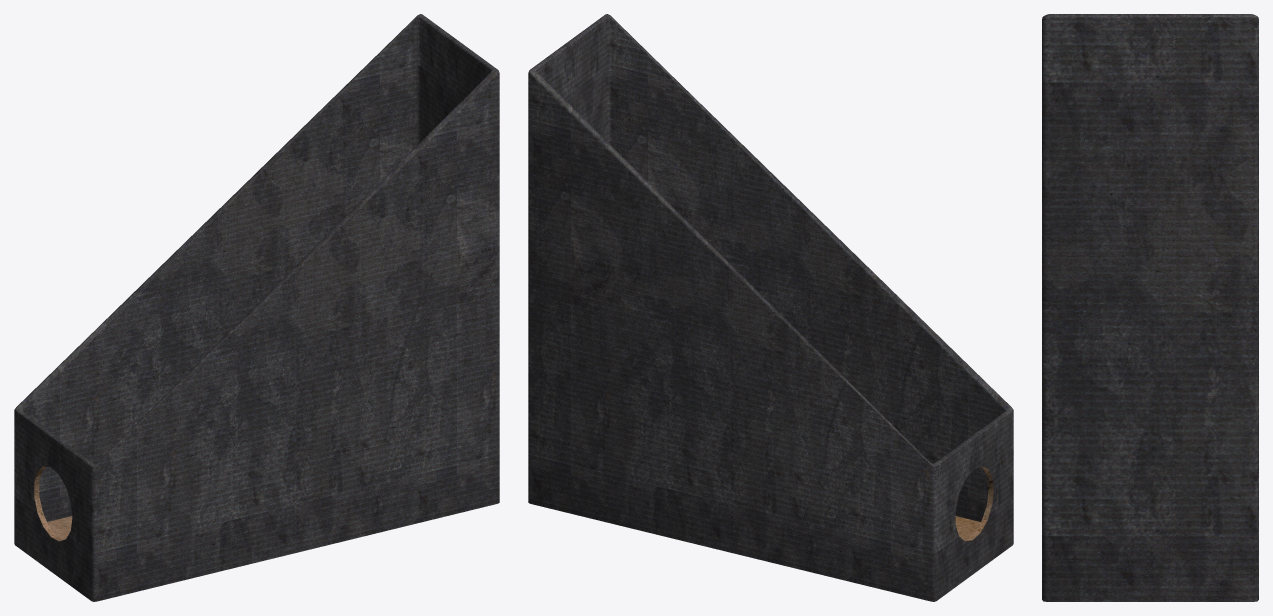
Rendered from BookCase.FBX.
The picture shows the model from 3 angles, left to right: view 1: azimuth 30°, elevation 25°; view 2: azimuth 150°, elevation 25°; view 3: azimuth 270°, elevation 25°; orthographic projection. The views are drawn at different scales.
Visible parts, largest first — view 1: BookCase; view 2: BookCase; view 3: BookCase.
Part boxes in pixels (<box>): BookCase: <box>14,14,499,601</box>; BookCase: <box>528,14,1013,601</box>; BookCase: <box>1042,14,1258,601</box>.
Bounding box in the file's own units: 765 × 775 × 260.
